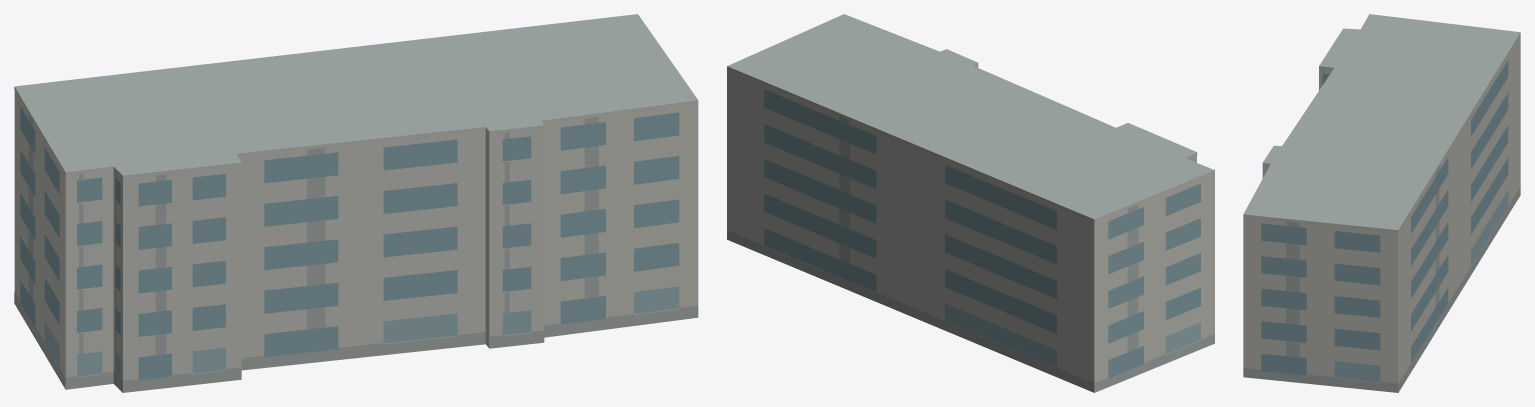
The model's file is survey-upis-32590907.glb.
The picture shows the model from 3 angles, left to right: view 1: azimuth 30°, elevation 25°; view 2: azimuth 150°, elevation 25°; view 3: azimuth 270°, elevation 25°; orthographic projection. The views are drawn at different scales.
Visible parts, largest first — view 1: survey-upis-32590907.tmp; view 2: survey-upis-32590907.tmp; view 3: survey-upis-32590907.tmp.
Boxes of the visible parts, box(x1,y1,x2,y2) form: survey-upis-32590907.tmp: box(14, 14, 698, 392); survey-upis-32590907.tmp: box(727, 14, 1214, 392); survey-upis-32590907.tmp: box(1243, 14, 1520, 392).
Size of the model in its own units: 43.45 by 15.25 by 23.57.
